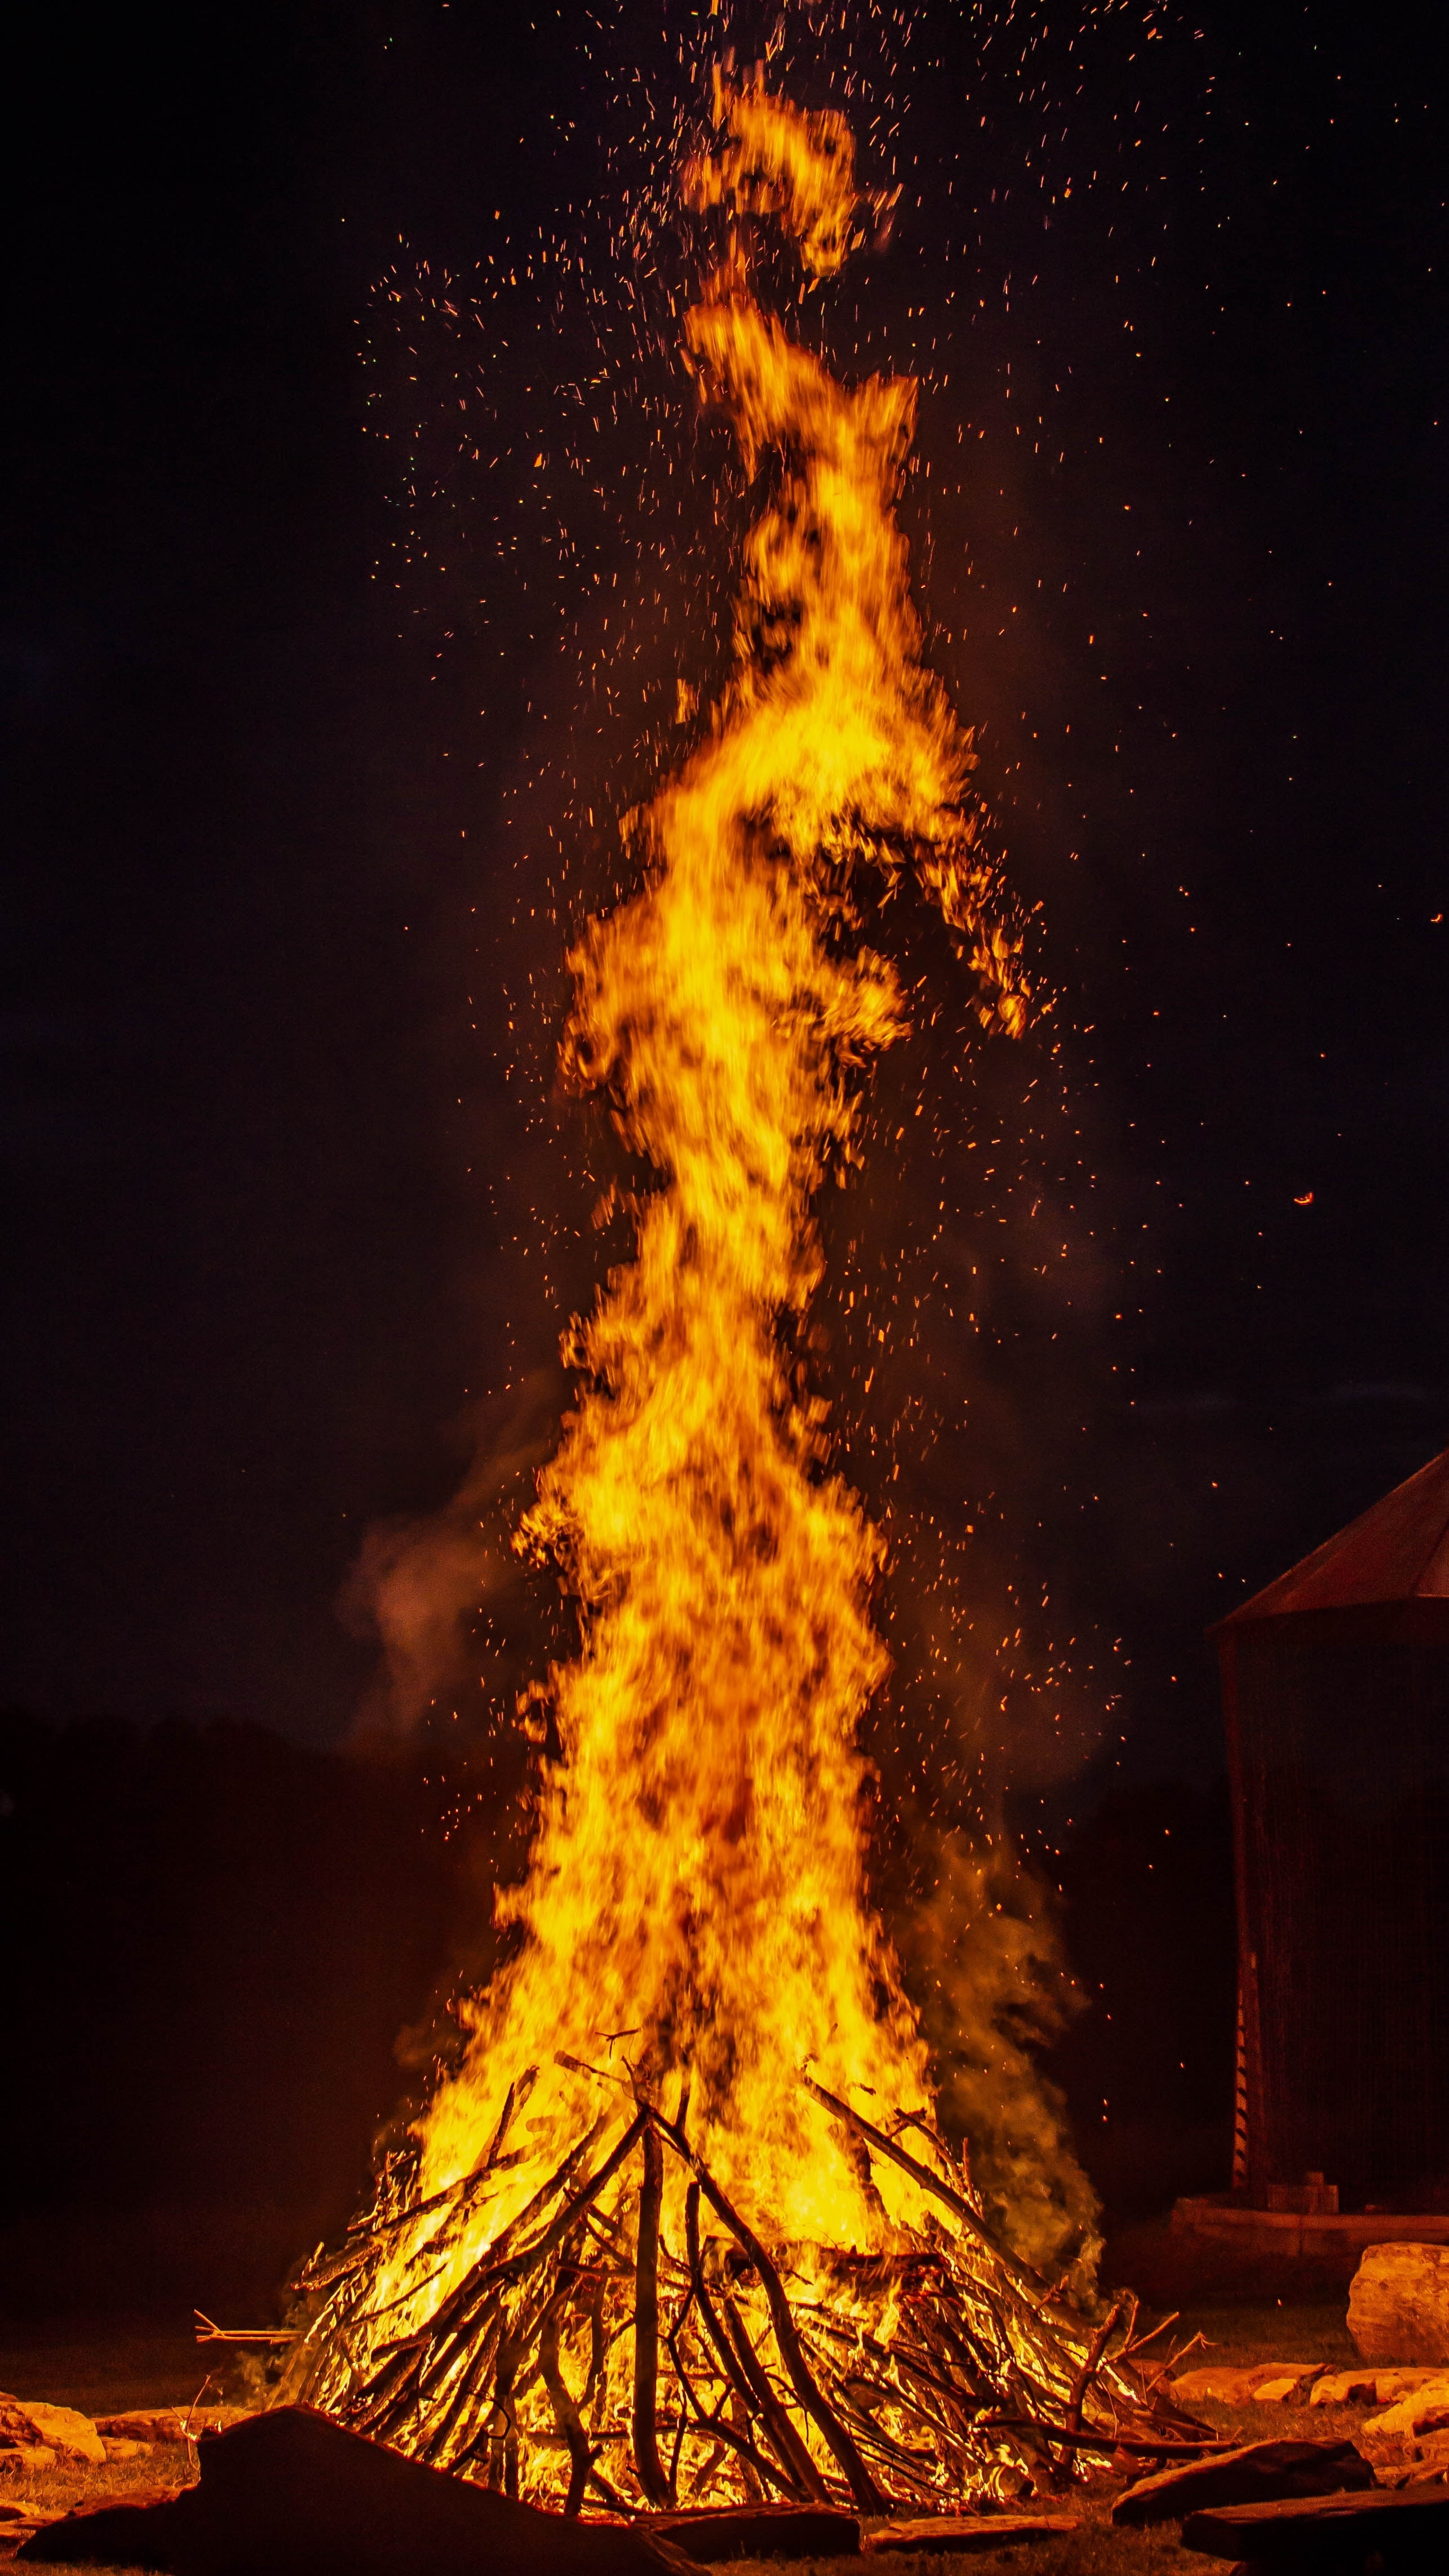fire: (396, 209, 1161, 2498)
